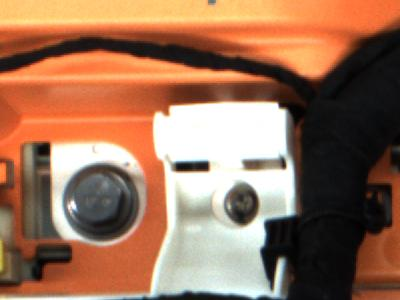nut_b: (62, 162, 145, 242)
